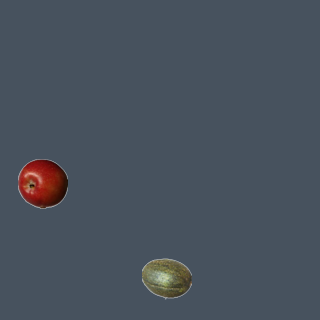Apple Braeburn: (17, 158, 67, 208)
Melon Piel de Sapo: (141, 253, 191, 303)
